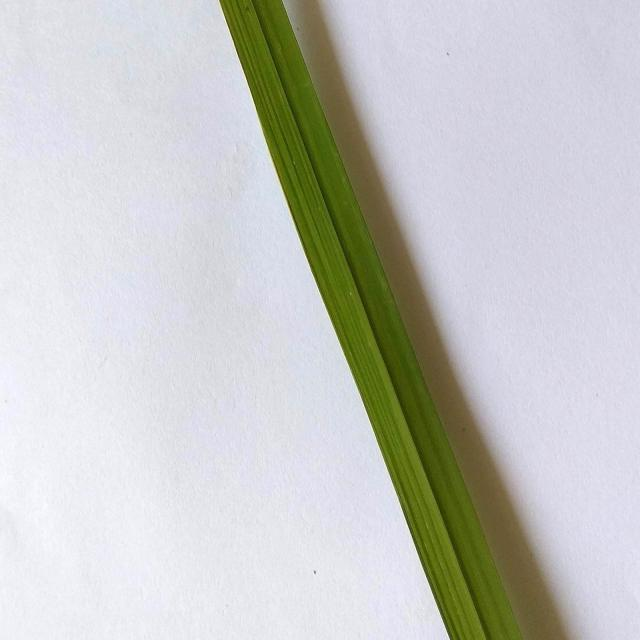healthy: (204, 2, 534, 640)
